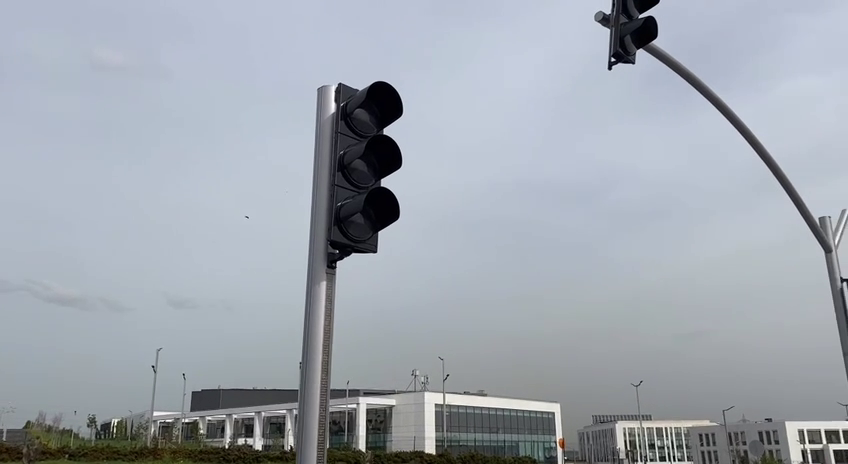trafficLight: (312, 77, 406, 265), (604, 1, 661, 74)
